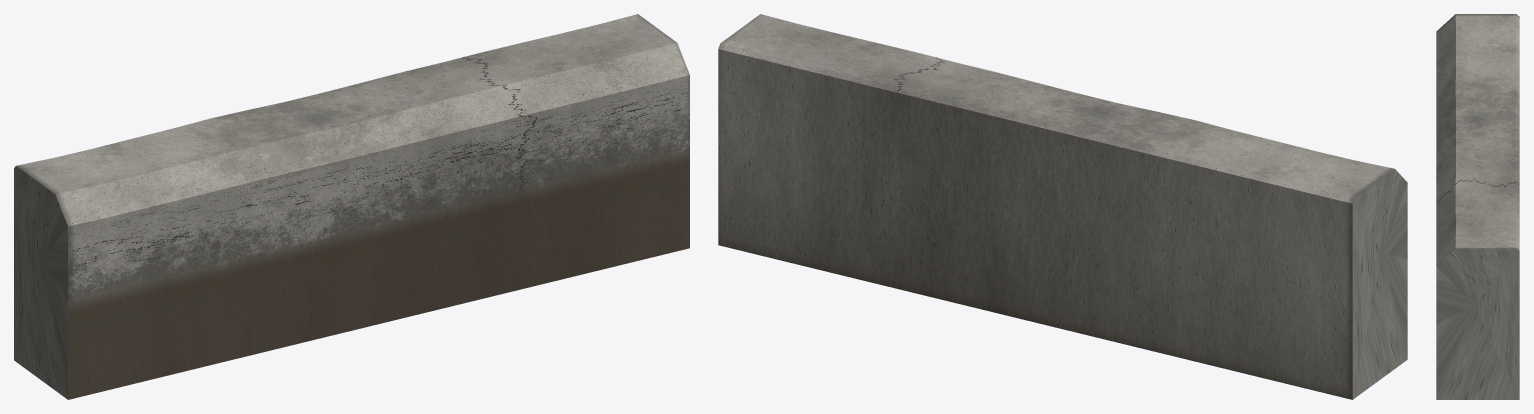
Rendered from curb_straight_bare_b_web.glb.
3 views of the same model, side by side, from view 1: azimuth 30°, elevation 25°; view 2: azimuth 150°, elevation 25°; view 3: azimuth 270°, elevation 25° (orthographic). The views are drawn at different scales.
Visible parts, largest first — view 1: curb_straight_bare_b_Mesh; view 2: curb_straight_bare_b_Mesh; view 3: curb_straight_bare_b_Mesh.
Part boxes in pixels (x1,y1,x2,y2): curb_straight_bare_b_Mesh: (14, 14, 689, 399); curb_straight_bare_b_Mesh: (718, 14, 1407, 399); curb_straight_bare_b_Mesh: (1436, 14, 1519, 399).
Bounding box in the file's own units: 0.995 × 0.3 × 0.15.
Materials: 1 (1 with a texture image).
